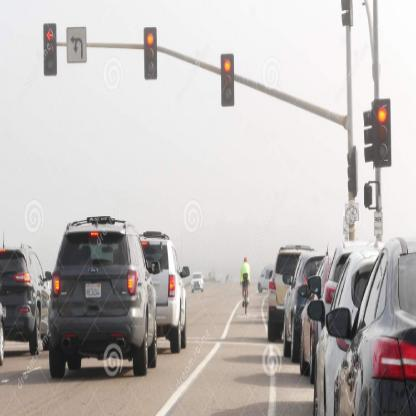left-red: (44, 23, 57, 76)
red: (374, 99, 392, 167), (220, 53, 235, 107), (144, 27, 157, 80)
